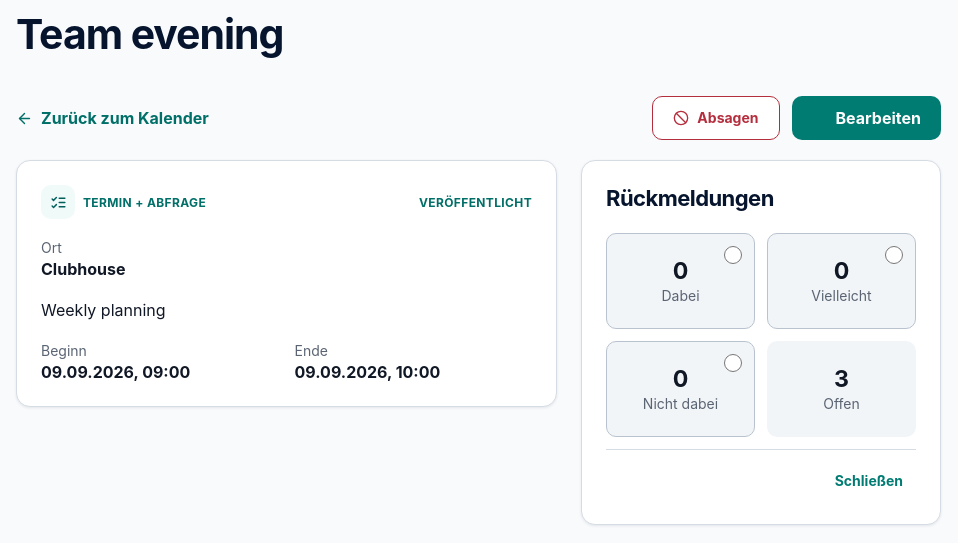
Test: PlanningEventDetailPage › updates the selected poll count after choosing its aggregate tile
Expected: the 1st text "0" is shown, x1=673 y1=257 x2=688 y2=285
Expected: the number of radio buttons is 3, x1=724 y1=246 x2=742 y2=264; x1=885 y1=246 x2=903 y2=264; x1=724 y1=354 x2=742 y2=372
Step 1. Click the label "0 Dabei" → (680, 281), box x1=606 y1=233 x2=755 y2=329
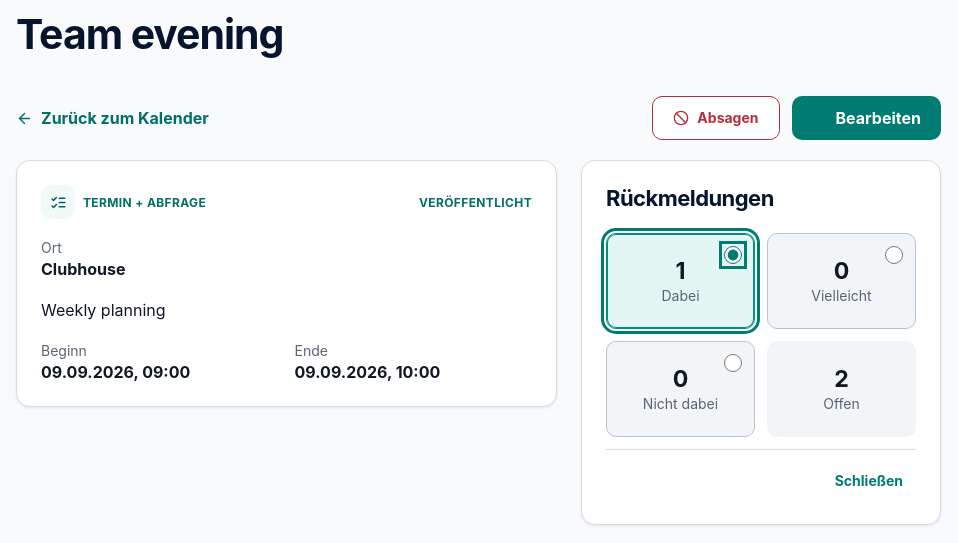
Result: the radio button labelled "1 Dabei" is checked at x1=724 y1=246 x2=742 y2=264
Result: the text "1" is shown at x1=676 y1=257 x2=686 y2=285
Result: the text "2" is shown at x1=834 y1=365 x2=849 y2=393
